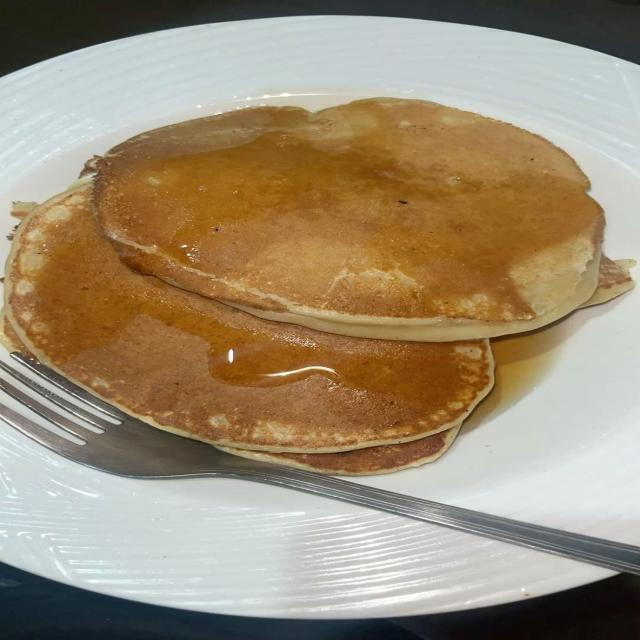pancake: (6, 184, 493, 452), (87, 98, 603, 341), (217, 426, 459, 475), (218, 426, 459, 475), (581, 256, 635, 307)
